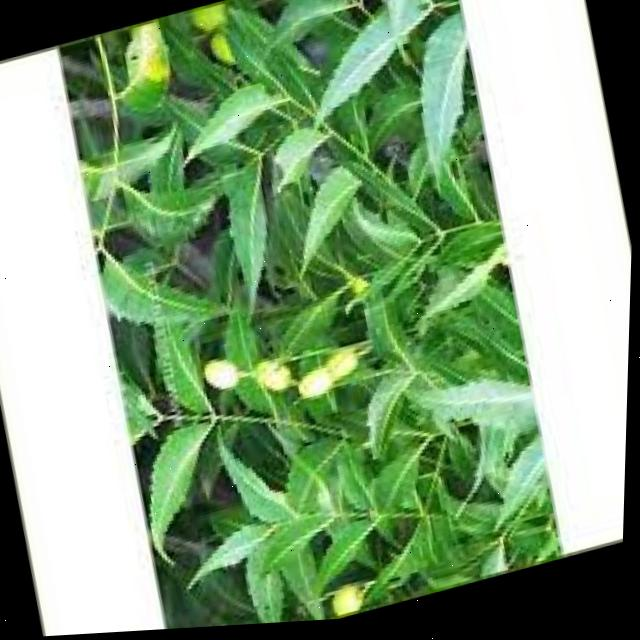Wet: (0, 0, 609, 640)
